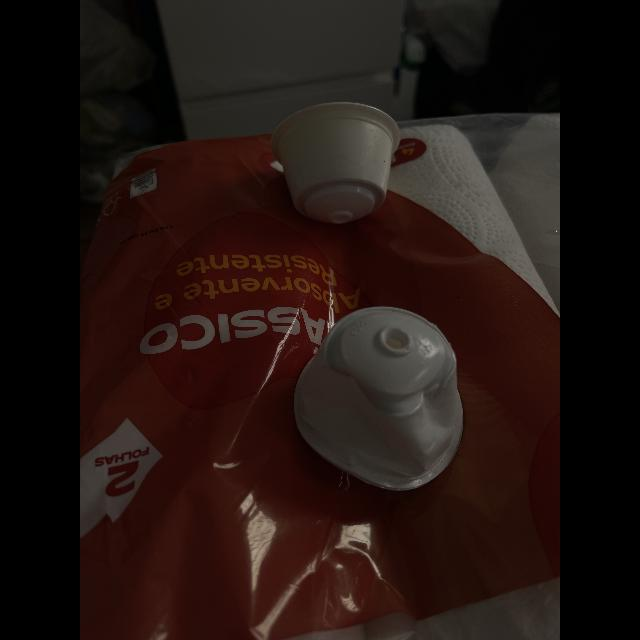damaged_capsule: (278, 298, 484, 504)
intact_capsule: (261, 96, 407, 238)
